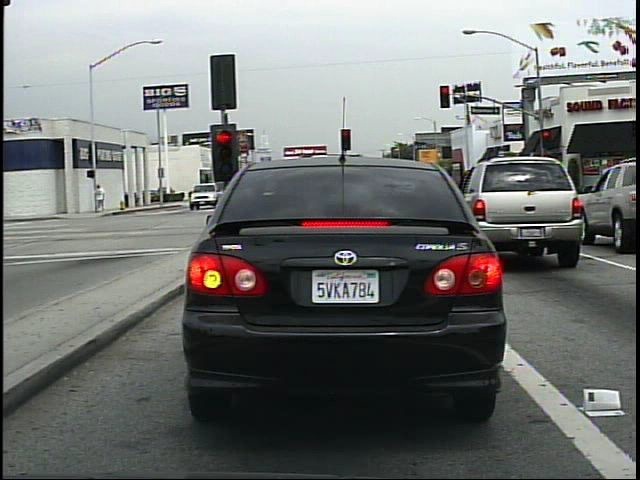person: (94, 183, 108, 214)
